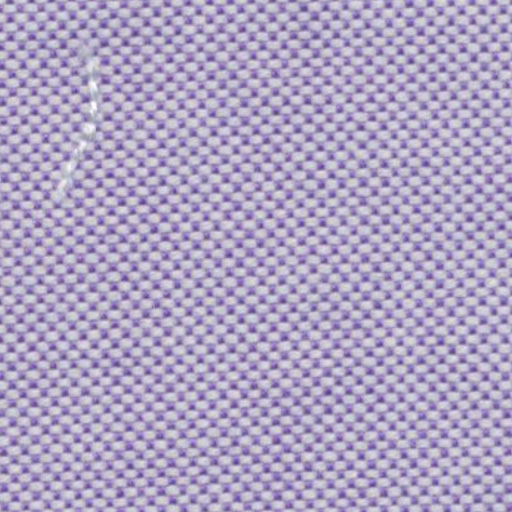DuanSha: (28, 38, 132, 206)
